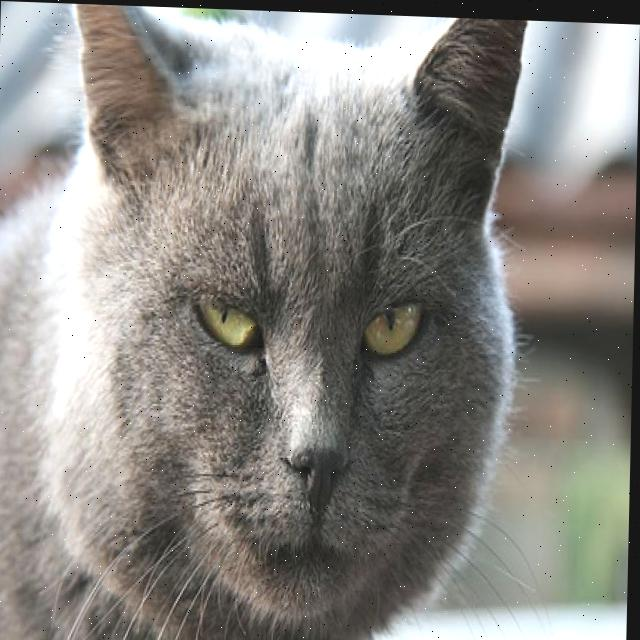Russian Blue: (0, 0, 531, 640)
